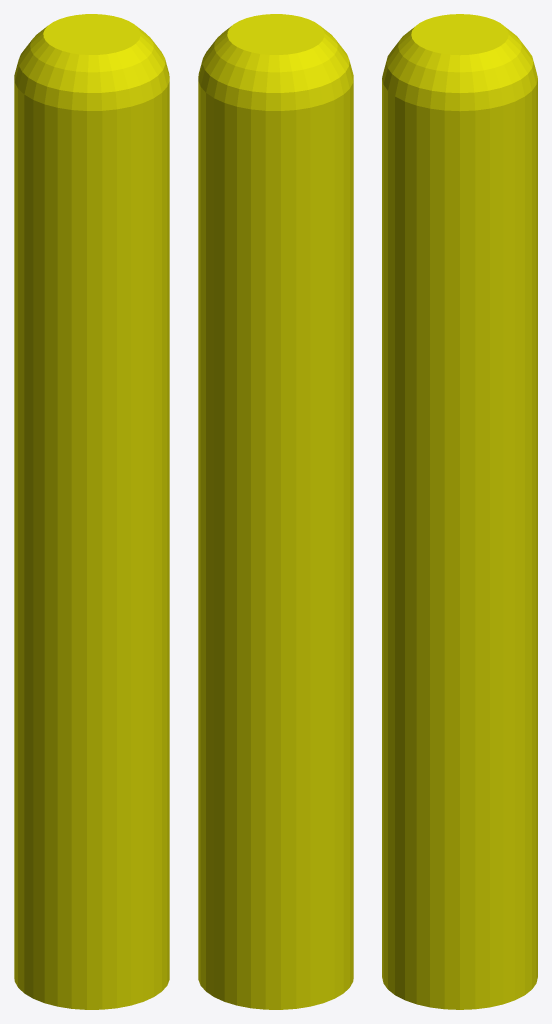
The model's file is LaserOuter.fbx.
3 views of the same model, side by side, from view 1: azimuth 30°, elevation 25°; view 2: azimuth 150°, elevation 25°; view 3: azimuth 270°, elevation 25° (orthographic).
Visible parts, largest first — view 1: 円柱.001; view 2: 円柱.001; view 3: 円柱.001.
Boxes of the visible parts, <box> form: 円柱.001: <box>14,14,169,1009</box>; 円柱.001: <box>198,14,353,1009</box>; 円柱.001: <box>382,14,537,1009</box>.
Bounding box in the file's own units: 2.25 × 15 × 2.25.
